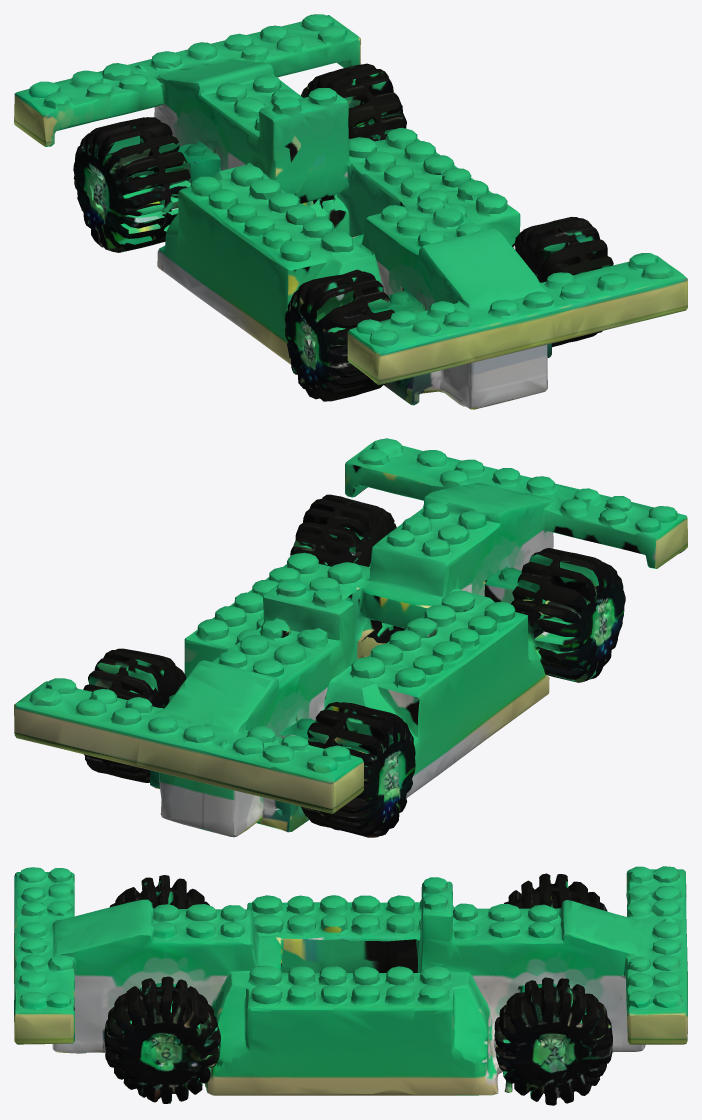
The picture shows the model from 3 angles, top to bottom: view 1: azimuth 30°, elevation 25°; view 2: azimuth 150°, elevation 25°; view 3: azimuth 270°, elevation 25°; orthographic projection. The views are drawn at different scales.
Parts seen in each view (by area): view 1: textured_mesh; view 2: textured_mesh; view 3: textured_mesh.
Boxes of the visible parts, x1,y1,x2,y2 form: textured_mesh: (14, 14, 687, 409); textured_mesh: (14, 438, 687, 837); textured_mesh: (14, 866, 687, 1105).
Size of the model in its own units: 1 by 0.5014 by 1.96.
1 material, 1 textured.
